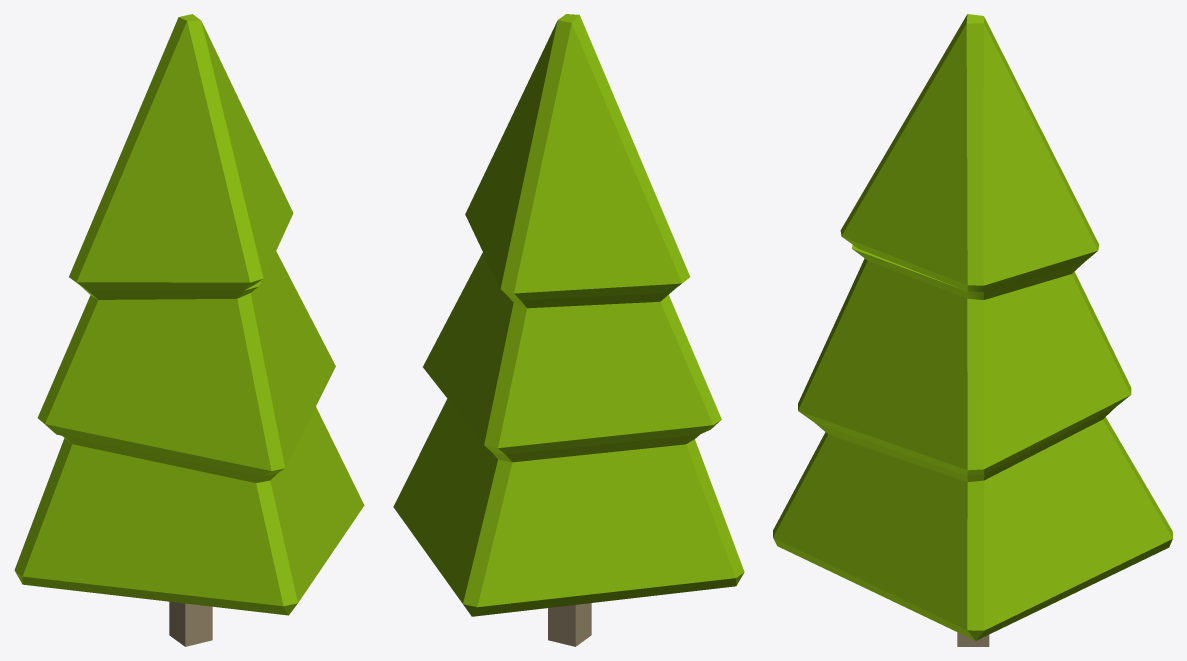
Rendered from pine_t_01.fbx.
The picture shows the model from 3 angles, left to right: view 1: azimuth 30°, elevation 25°; view 2: azimuth 150°, elevation 25°; view 3: azimuth 270°, elevation 25°; orthographic projection.
Parts seen in each view (by area): view 1: pine_t_01; view 2: pine_t_01; view 3: pine_t_01.
Boxes of the visible parts, left/top/right/bottom form: pine_t_01: left=14, top=14, right=364, bottom=646; pine_t_01: left=393, top=14, right=744, bottom=646; pine_t_01: left=773, top=14, right=1172, bottom=646.
Bounding box in the file's own units: 940 × 1631 × 949.
